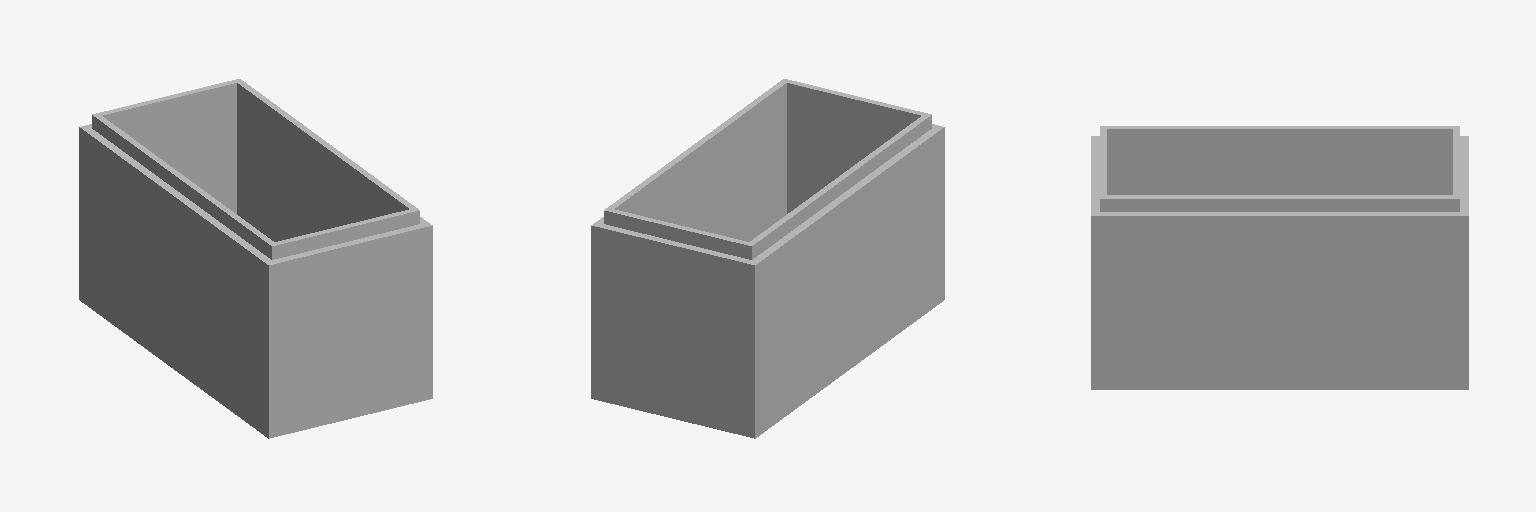
File: gravestone.obj
3 views of the same model, side by side, from view 1: azimuth 30°, elevation 25°; view 2: azimuth 150°, elevation 25°; view 3: azimuth 270°, elevation 25° (orthographic).
Visible parts, largest first — view 1: box; view 2: box; view 3: box.
Boxes of the visible parts, box(x1,y1,x2,y2) form: box: box(79, 79, 432, 438); box: box(591, 79, 944, 438); box: box(1091, 126, 1468, 389).
Size of the model in its own units: 1 by 1.09 by 2.